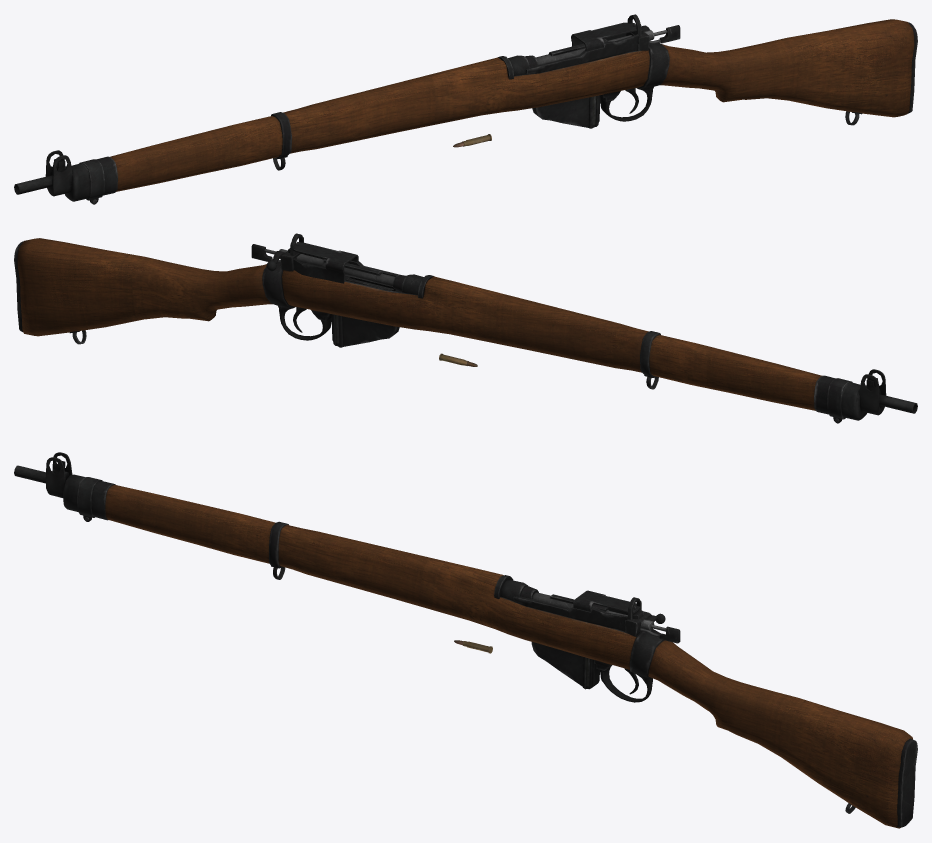
The model's file is historical-lee-enfield.glb.
3 renders of one model, top to bottom at view 1: azimuth 30°, elevation 25°; view 2: azimuth 150°, elevation 25°; view 3: azimuth 330°, elevation 25°, orthographic.
Parts seen in each view (by area): view 1: FP Hunting Rifle; view 2: FP Hunting Rifle; view 3: FP Hunting Rifle.
Boxes of the visible parts, left/top/right/bottom form: FP Hunting Rifle: left=14, top=14, right=917, bottom=204; FP Hunting Rifle: left=14, top=233, right=917, bottom=423; FP Hunting Rifle: left=14, top=452, right=917, bottom=828.
Bounding box in the file's own units: 9.29 × 1.65 × 0.4504.
Materials: 1 (1 with a texture image).
